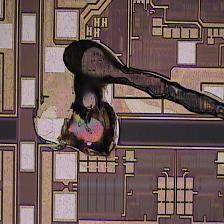PARTICLE: (33, 37, 224, 161)
